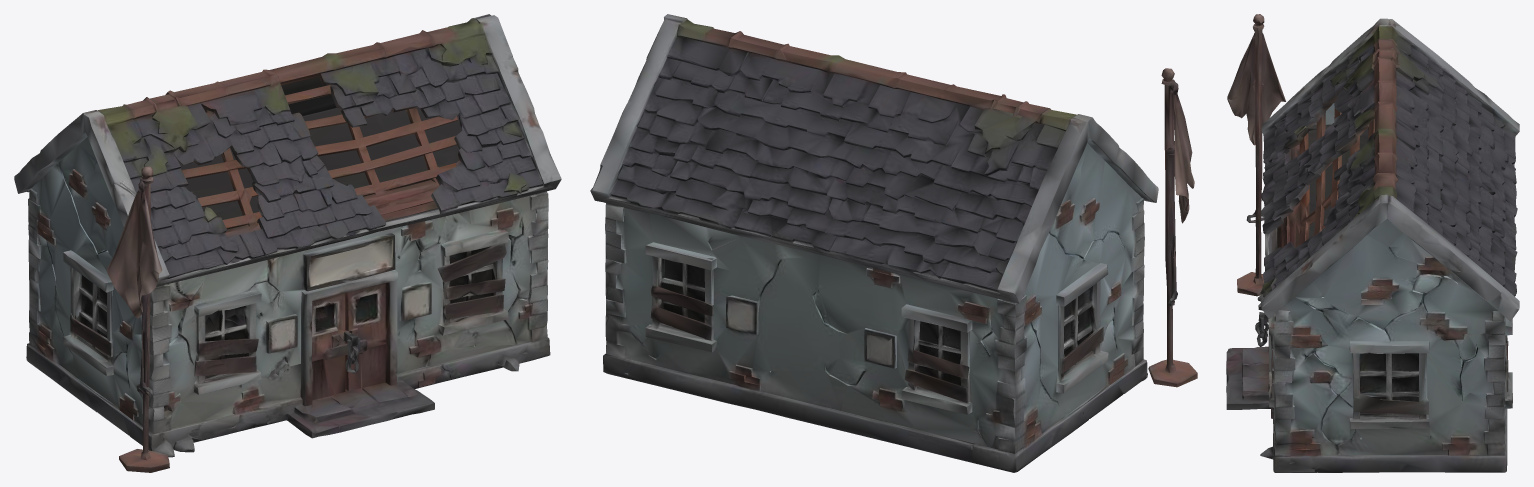
The model's file is house_small_b_idle.glb.
The picture shows the model from 3 angles, left to right: view 1: azimuth 30°, elevation 25°; view 2: azimuth 150°, elevation 25°; view 3: azimuth 270°, elevation 25°; orthographic projection. The views are drawn at different scales.
Visible parts, largest first — view 1: tripo_node_f1823eef-30c1-48cd-8d42-27c2e6d828c1; view 2: tripo_node_f1823eef-30c1-48cd-8d42-27c2e6d828c1; view 3: tripo_node_f1823eef-30c1-48cd-8d42-27c2e6d828c1.
Boxes of the visible parts, x1,y1,x2,y2 form: tripo_node_f1823eef-30c1-48cd-8d42-27c2e6d828c1: (14, 14, 561, 472); tripo_node_f1823eef-30c1-48cd-8d42-27c2e6d828c1: (590, 14, 1197, 472); tripo_node_f1823eef-30c1-48cd-8d42-27c2e6d828c1: (1226, 14, 1519, 472).
Bounding box in the file's own units: 8 × 5.1 × 4.94.
Materials: 1 (1 with a texture image).
